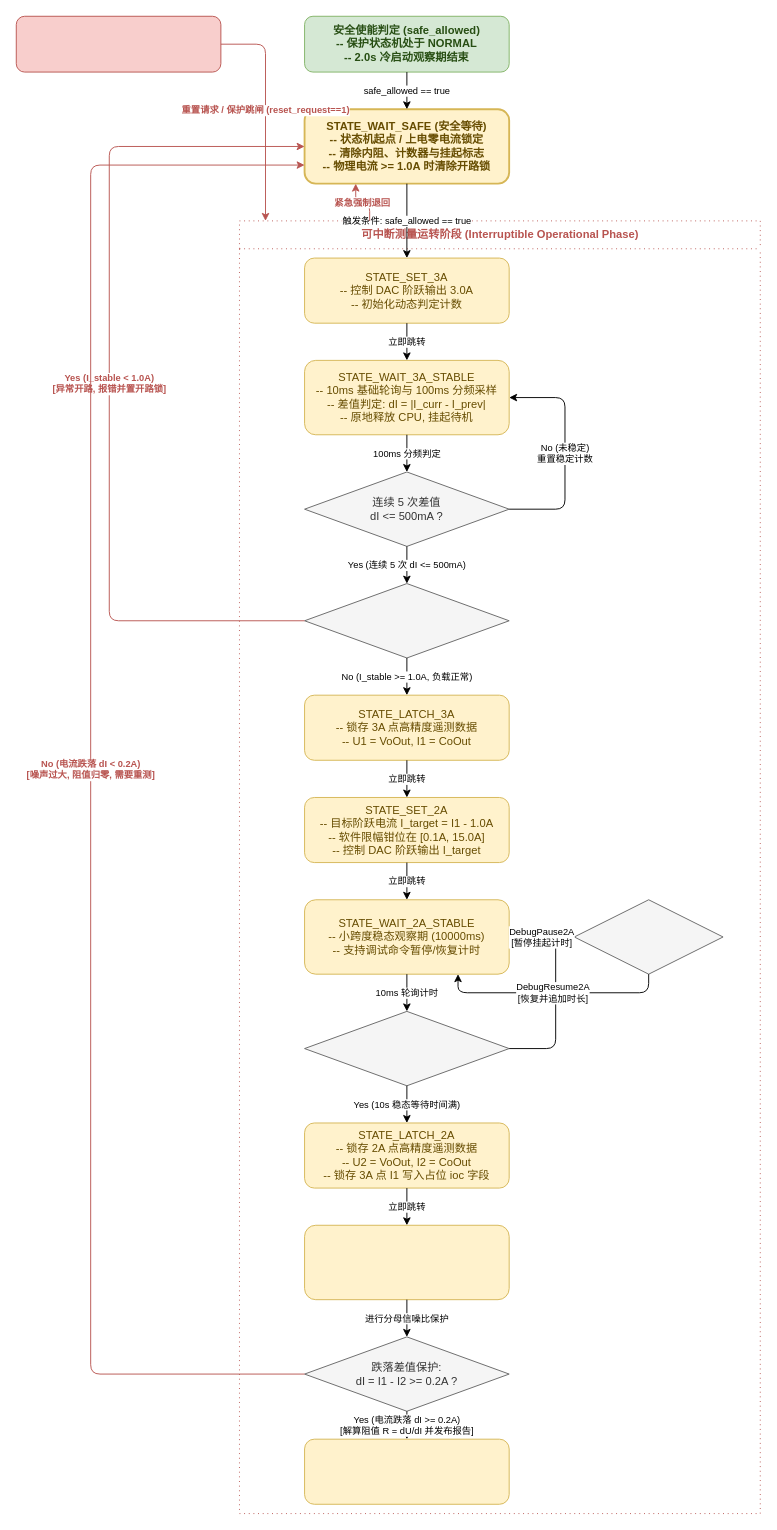
Some shapes in this 777 by 1530 pixel diagram are drawn without their labels. Here are the shapes that lost their labels. From the top down, the centre of each, then its label:
the point at 118,43: 紧急重置事件 (RESET_FLAG) -- 保护状态机发生跳闸/复位 -- 上位机下发 SystemReset
the point at 406,620: 开路检测: 当前电流 I_stable < 1.0A ?
the point at 648,936: 暂停判定: 收到 DebugPause2A ?
the point at 406,1048: 观察期 10s 满 ?
the point at 406,1262: STATE_CALC_RESISTANCE -- 执行内阻代数求解: R = dU / dI -- 数据入库, 发布 [Calc] 计算报告
the point at 406,1471: STATE_MONITOR (静态监控) -- 内阻计算结束, 终点状态 -- 释放 DAC 主动阶跃控制权 -- 持续监视直到接收重置
